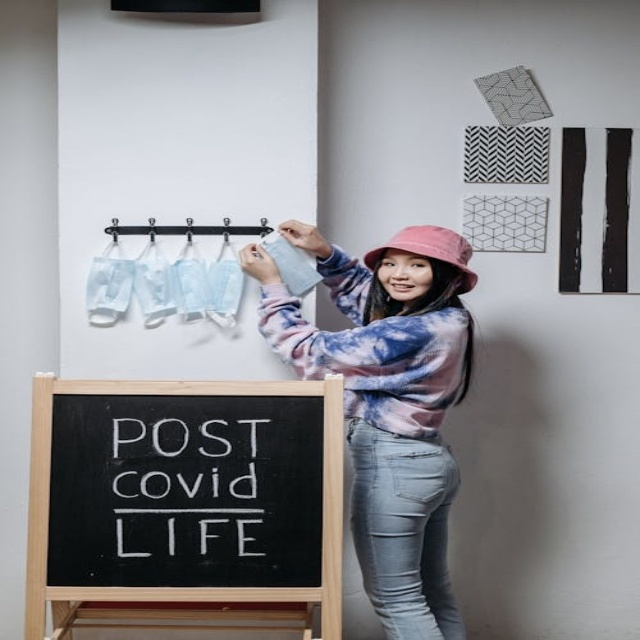Sin_gafas: (379, 253, 431, 270)
Sin_guantes: (273, 213, 334, 260), (232, 240, 284, 286)
Sin_mascara: (383, 278, 424, 296)
